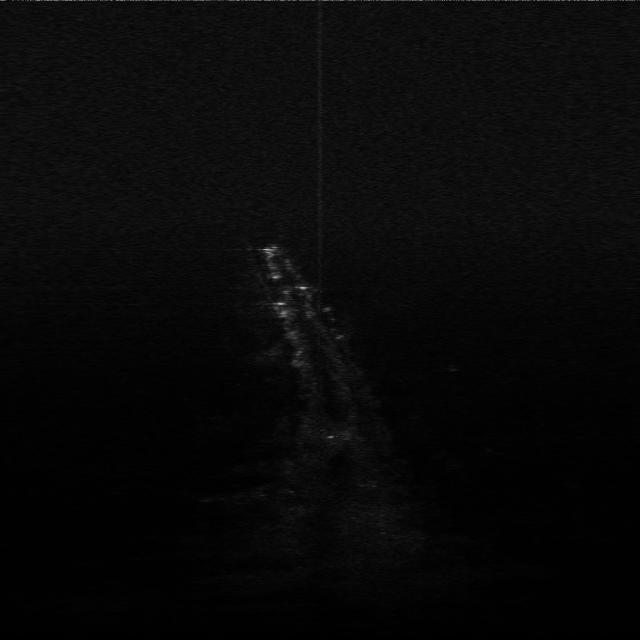rov: (258, 241, 286, 261)
